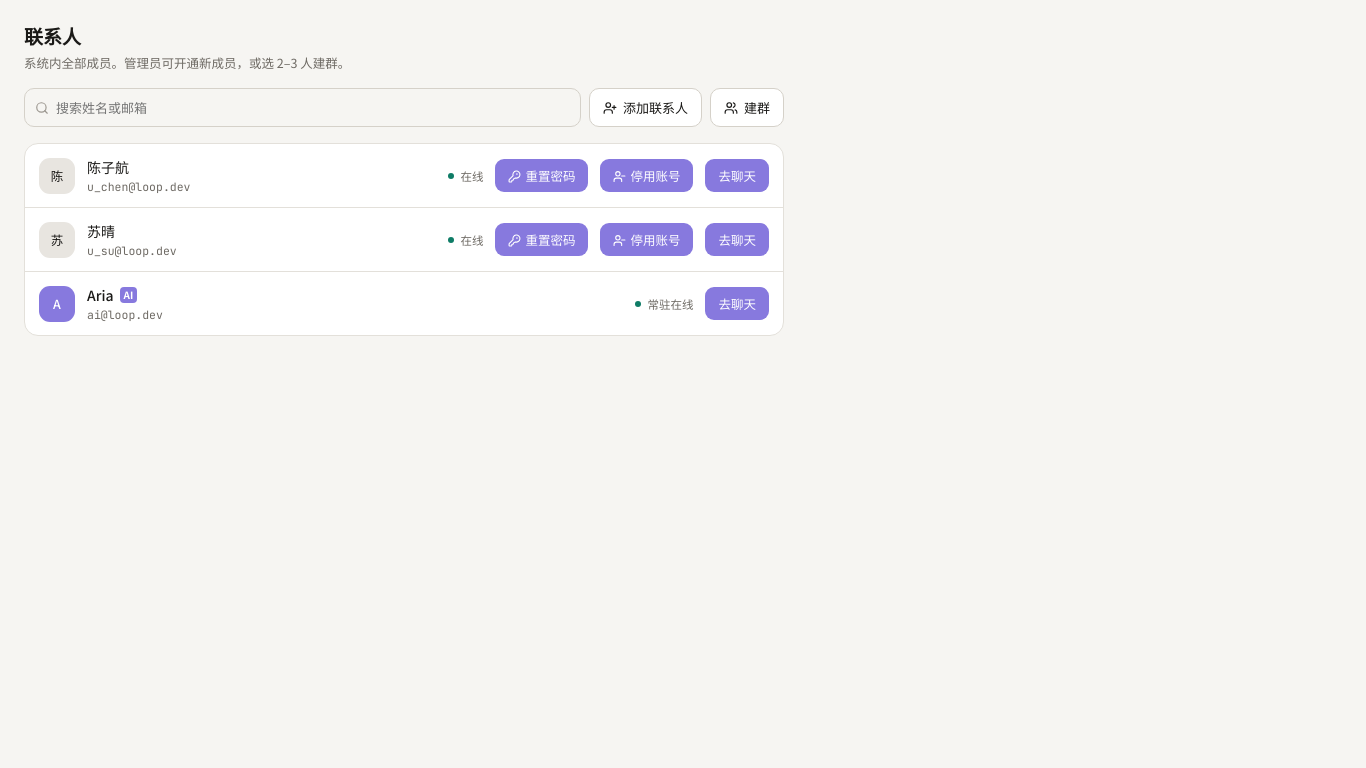
Test: 重置弹窗 › 关掉弹窗后新密码不再出现，重新打开也不会带出上次的密码
Click the button "重置密码" in the row of "u_chen@loop.dev": (542,176) [496,159,588,192]
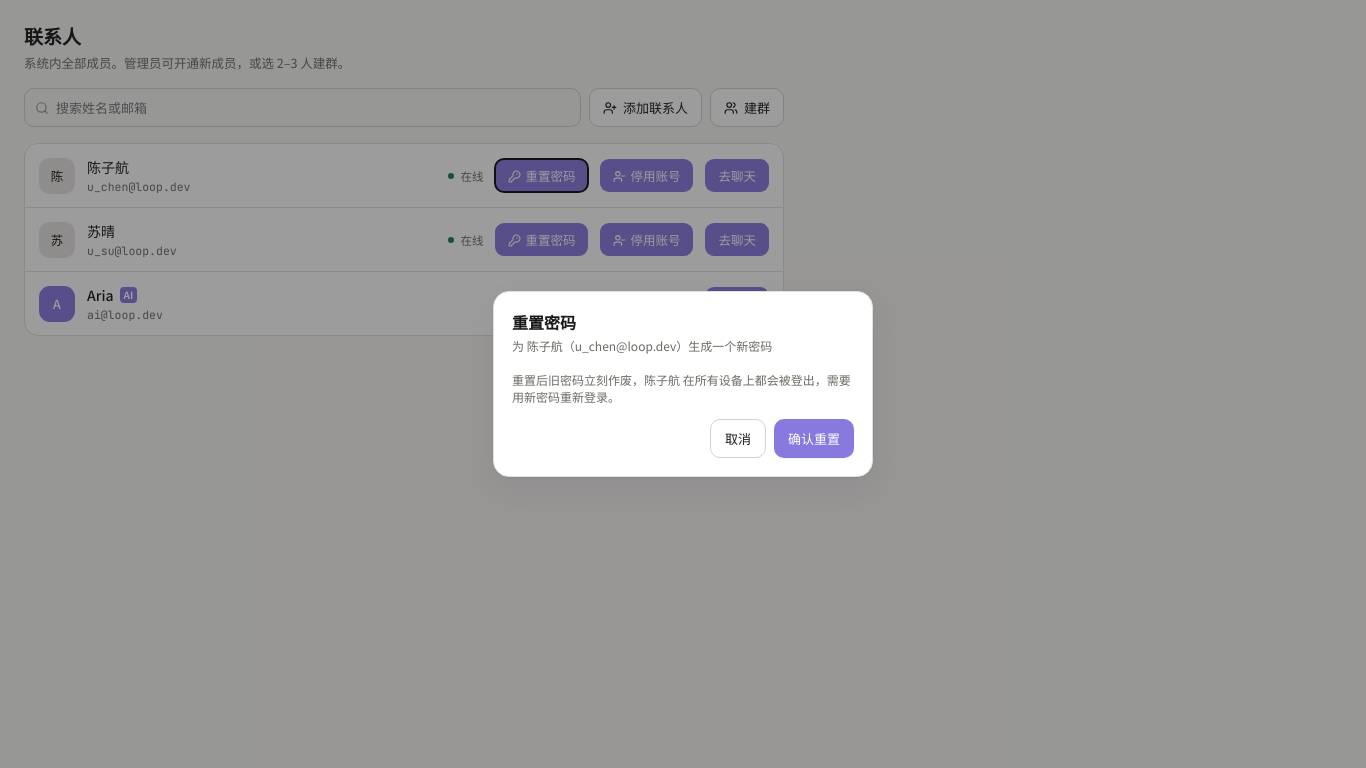
Click the button "确认重置": (814,438) [774,419,854,458]
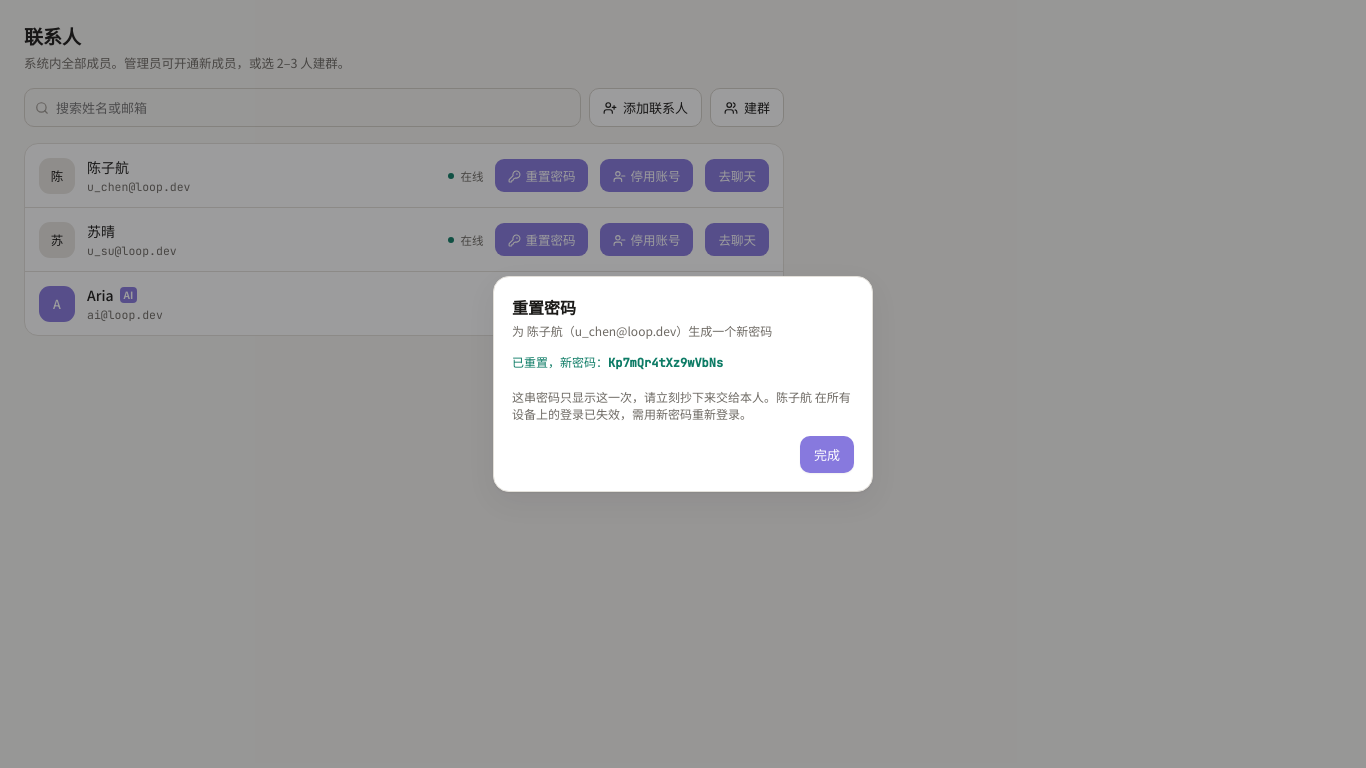
Result: the text "Kp7mQr4tXz9wVbNs" is shown at [608,355,723,371]
Click the button "完成": (827,454) [800,436,854,473]
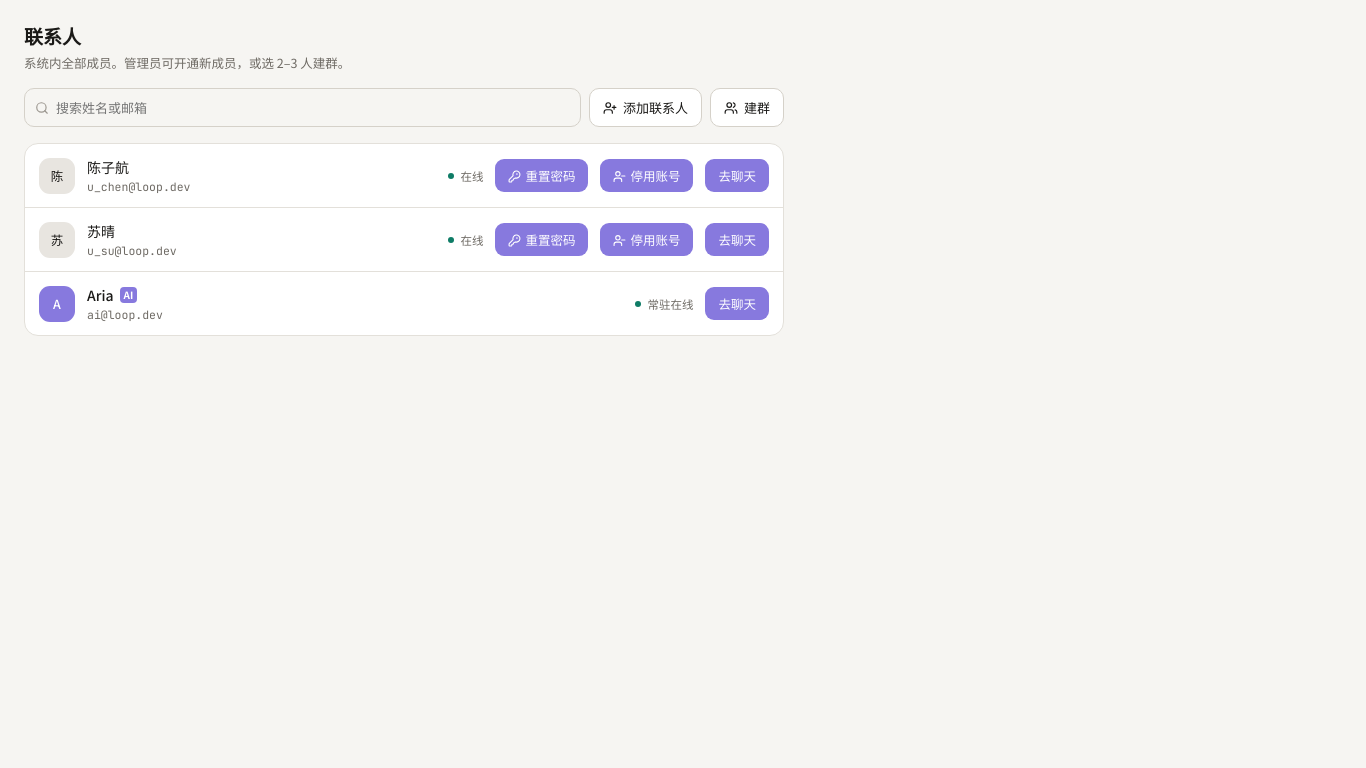
Result: the text "Kp7mQr4tXz9wVbNs" is gone
Click the button "重置密码" in the row of "u_chen@loop.dev": (542,176) [496,159,588,192]
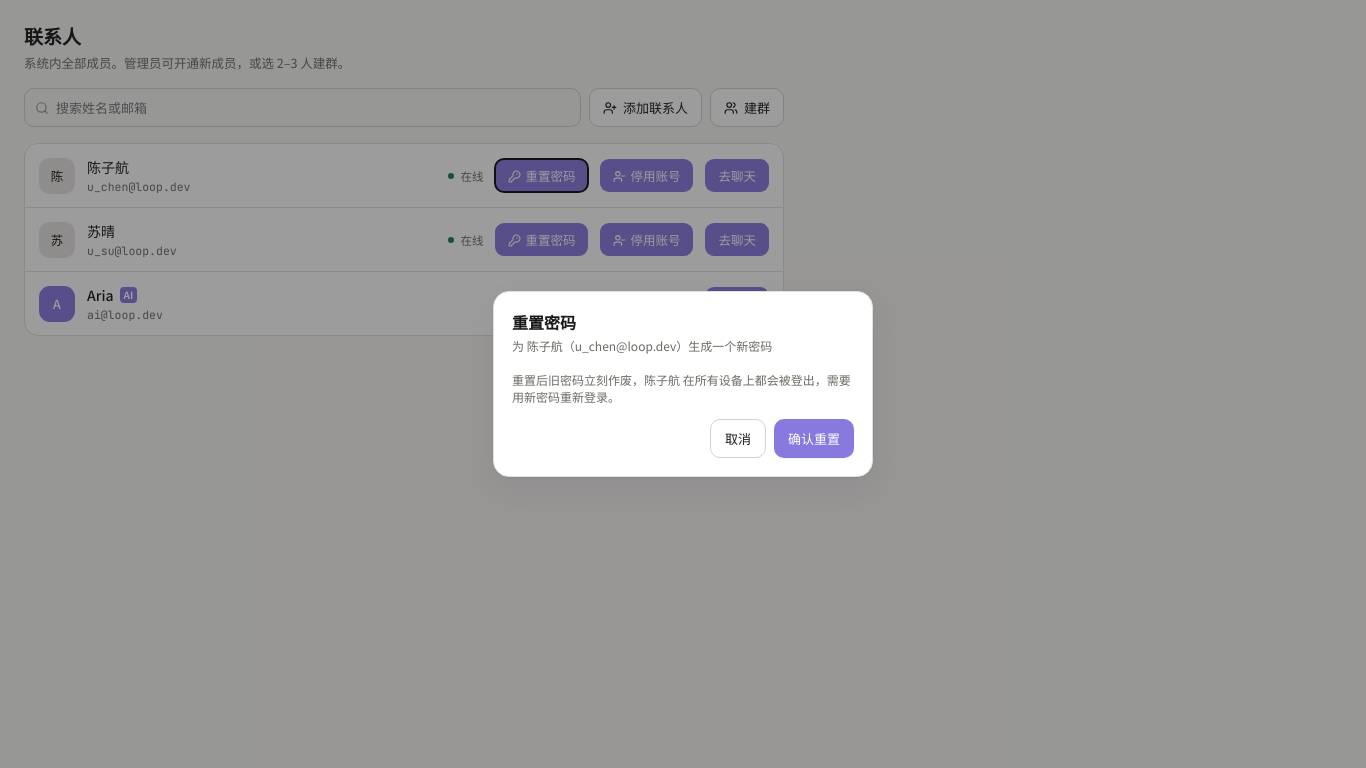
Expected: the text "Kp7mQr4tXz9wVbNs" is not shown
Result: the button "确认重置" is shown at [774,419,854,458]
